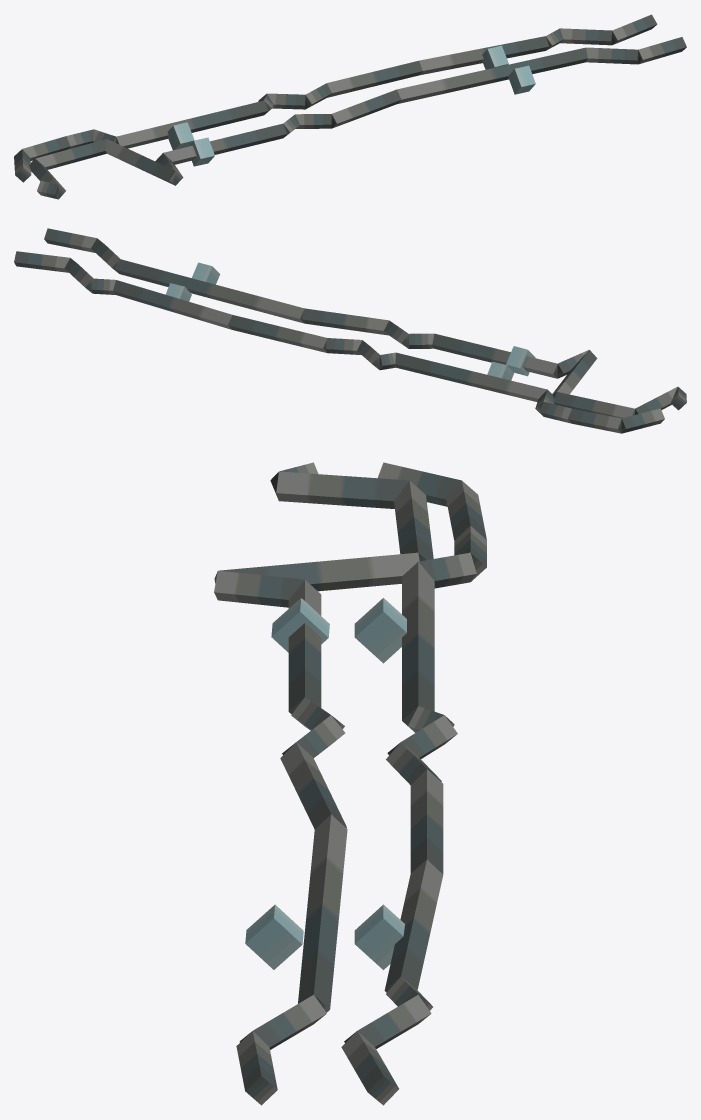
File: pz_native_electrical_206.obj
3 views of the same model, one above another, from view 1: azimuth 30°, elevation 25°; view 2: azimuth 150°, elevation 25°; view 3: azimuth 270°, elevation 25° (orthographic). The views are drawn at different scales.
Visible parts, largest first — view 1: conduit, conduit_end; view 2: conduit, conduit_end; view 3: conduit, conduit_end.
Boxes of the visible parts, x1=… form: conduit: x1=14, y1=14, x2=686, y2=199; conduit_end: x1=15, y1=31, x2=642, y2=199; conduit: x1=14, y1=228, x2=686, y2=433; conduit_end: x1=85, y1=260, x2=686, y2=433; conduit: x1=214, y1=462, x2=486, y2=1091; conduit_end: x1=214, y1=472, x2=486, y2=1105.
Size of the model in its own units: 1.08 by 0.042 by 0.1998.
1 material, 1 textured.
